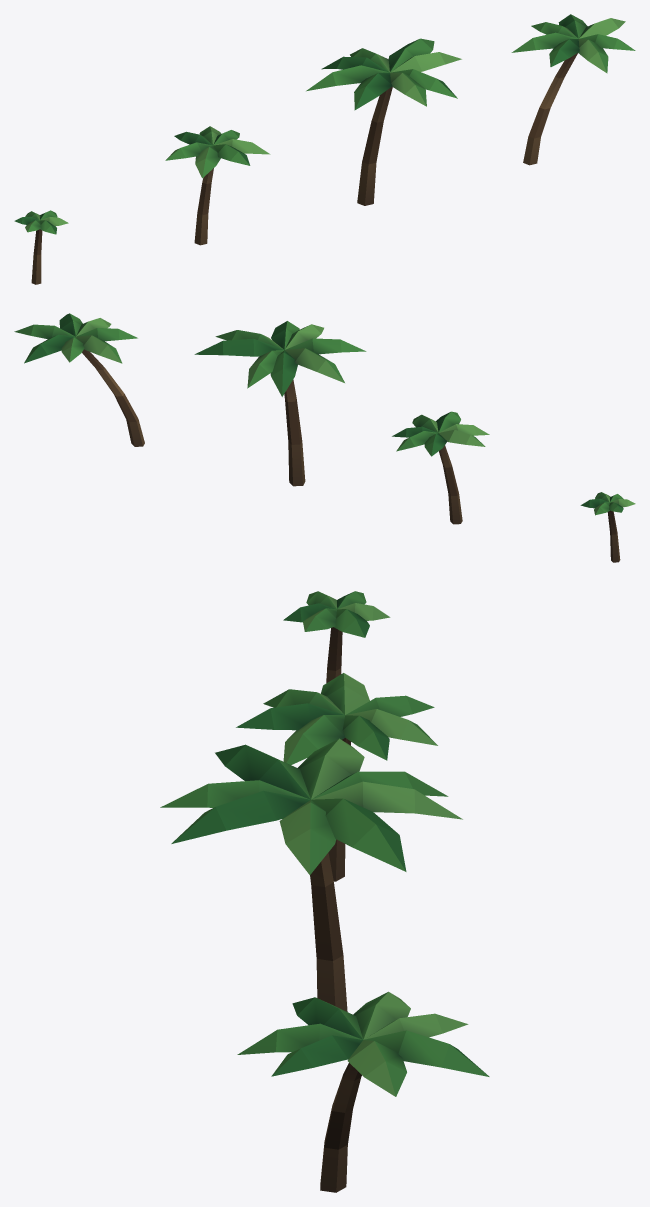
The model's file is palmas_coco.glb.
3 renders of one model, top to bottom at view 1: azimuth 30°, elevation 25°; view 2: azimuth 150°, elevation 25°; view 3: azimuth 270°, elevation 25°, orthographic. The views are drawn at different scales.
Parts seen in each view (by area): view 1: palm_l, palm_lean, palm_m, palm_s; view 2: palm_l, palm_lean, palm_m, palm_s; view 3: palm_l, palm_lean, palm_m, palm_s.
Boxes of the visible parts, x1,y1,x2,y2 form: palm_l: (306, 38, 461, 205); palm_lean: (511, 14, 635, 165); palm_m: (165, 126, 270, 245); palm_s: (14, 210, 68, 284); palm_l: (194, 321, 366, 486); palm_lean: (14, 313, 144, 446); palm_m: (392, 411, 489, 524); palm_s: (580, 492, 635, 562); palm_l: (160, 738, 462, 1011); palm_lean: (237, 991, 489, 1192); palm_m: (236, 673, 437, 881); palm_s: (283, 591, 390, 682).
Size of the model in its own units: 52.82 by 11.49 by 12.6.
